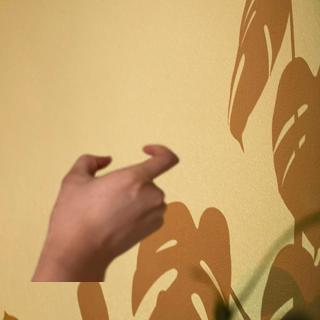HATE: (36, 137, 185, 276)
